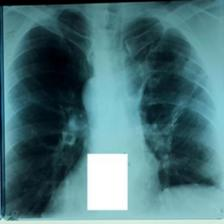tuberculosis: (4, 7, 224, 221)
